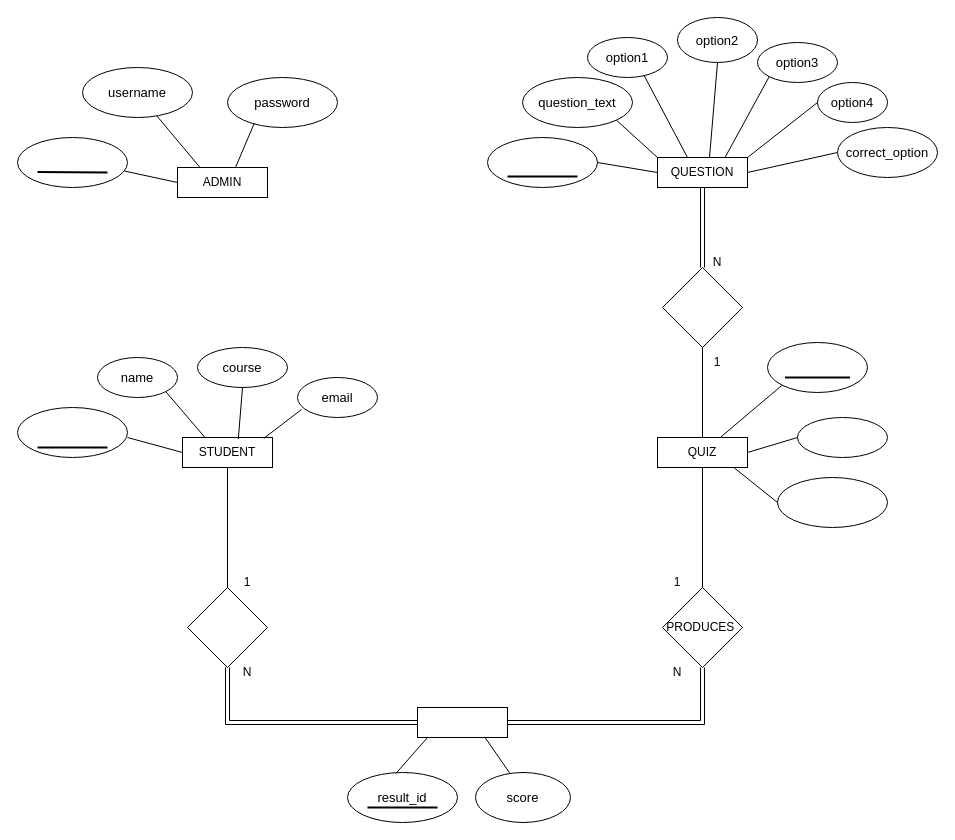
Image size: 955x840. Some labels were removed from this diagram. The shapes that lost their labels are listed below. From the top down, each one's box as (x1, y1, x2, y2) in pixels, then its label:
(16, 136, 128, 188): admin_id
(486, 136, 598, 188): question_id
(662, 266, 742, 348): CONTAINS
(766, 342, 868, 392): quiz_id
(16, 406, 128, 458): student_id
(796, 416, 888, 458): quiz_title
(776, 476, 888, 528): total_questions
(186, 586, 268, 668): GETS
(416, 706, 508, 738): RESULT
